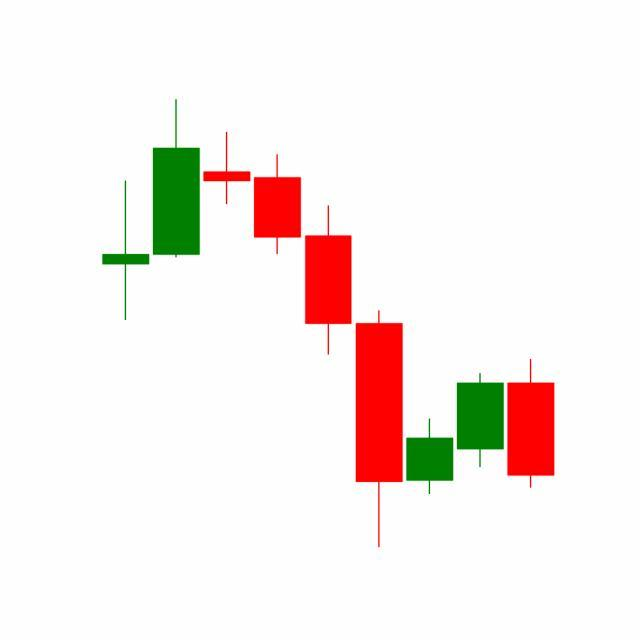Hikkake Pattern: (252, 150, 506, 548)
